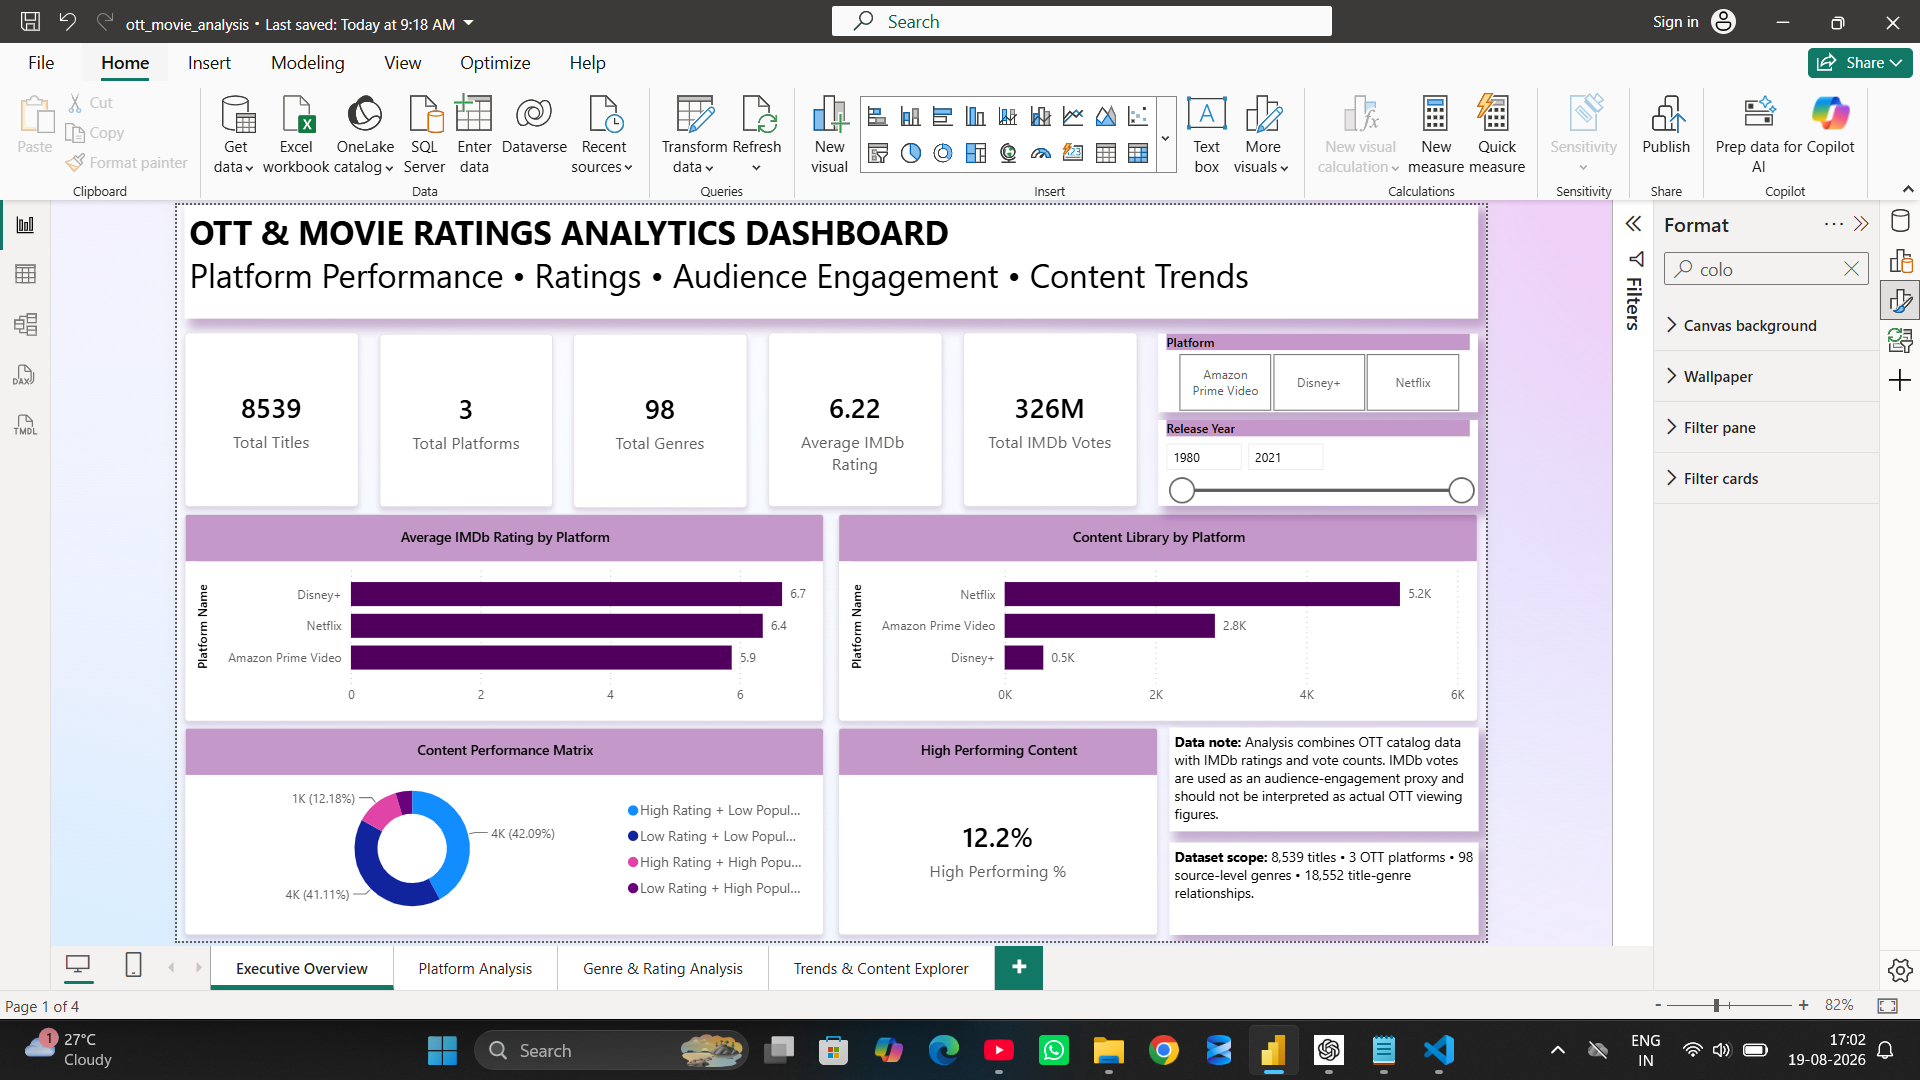

What the dashboard file says about the page in this screenshot:
{"tool":"powerbi","page":{"name":"Executive Overview","canvas":[1280,720],"ordinal":0},"visuals":[{"type":"textbox","box":[7.1,0,1265.7,111.4],"z":0},{"type":"card","fields":{"Values":["ott_movie_analysis titles.Total Titles"]},"box":[7.1,125.2,170,170],"z":1000},{"type":"card","fields":{"Values":["ott_movie_analysis platforms.Total Platforms"]},"box":[198.1,126,170,170],"z":2000},{"type":"card","fields":{"Values":["ott_movie_analysis genres.Total Genres"]},"box":[387.6,126,170,170],"z":3000},{"type":"card","fields":{"Values":["ott_movie_analysis titles.Average IMDb Rating"]},"box":[578.4,124.7,170,170],"z":4000},{"type":"card","fields":{"Values":["ott_movie_analysis titles.Total IMDb Votes"]},"box":[769.2,124.7,170,170],"z":5000},{"type":"clusteredBarChart","title":"Average IMDb Rating by Platform","fields":{"Category":["ott_movie_analysis platforms.platform_name"],"Y":["ott_movie_analysis titles.Average IMDb Rating"]},"box":[7.1,301.5,625.8,203.4],"z":6000},{"type":"clusteredBarChart","title":"Content Library by Platform","fields":{"Y":["ott_movie_analysis titles.Total Titles"],"Category":["ott_movie_analysis platforms.platform_name"]},"box":[647.1,301.5,625.8,203.4],"z":7000},{"type":"donutChart","title":"Content Performance Matrix","fields":{"Category":["Performance Categories.Category"],"Y":["Performance Categories.Performance Category Count"]},"box":[7.1,510.6,625.8,203.4],"z":8000},{"type":"card","title":"High Performing Content","fields":{"Values":["ott_movie_analysis titles.High Performing %"]},"box":[646.9,511.1,313,203],"z":9000},{"type":"slicer","fields":{"Values":["ott_movie_analysis platforms.platform_name"]},"box":[959.9,126,313,77],"z":10000},{"type":"slicer","fields":{"Values":["ott_movie_analysis titles.release_year"]},"box":[959.9,210.3,313,84.4],"z":11000},{"type":"textbox","box":[970.9,511.1,302,101.5],"z":12000},{"type":"textbox","box":[970.9,623.6,302,90.5],"z":13000}]}

Visuals, with their boxes on the page's 1280x720 design canvas (x1, y1, x2, y2). These are canvas units, not pixel positions in the 1920x1080 screenshot, which may show the page scaled, cropped or inside an application window:
textbox: crop(7, 0, 1273, 111)
card - ott_movie_analysis titles.Total Titles: crop(7, 125, 177, 295)
card - ott_movie_analysis platforms.Total Platforms: crop(198, 126, 368, 296)
card - ott_movie_analysis genres.Total Genres: crop(388, 126, 558, 296)
card - ott_movie_analysis titles.Average IMDb Rating: crop(578, 125, 748, 295)
card - ott_movie_analysis titles.Total IMDb Votes: crop(769, 125, 939, 295)
"Average IMDb Rating by Platform" clusteredBarChart: crop(7, 302, 633, 505)
"Content Library by Platform" clusteredBarChart: crop(647, 302, 1273, 505)
"Content Performance Matrix" donutChart: crop(7, 511, 633, 714)
"High Performing Content" card: crop(647, 511, 960, 714)
slicer - ott_movie_analysis platforms.platform_name: crop(960, 126, 1273, 203)
slicer - ott_movie_analysis titles.release_year: crop(960, 210, 1273, 295)
textbox: crop(971, 511, 1273, 613)
textbox: crop(971, 624, 1273, 714)
